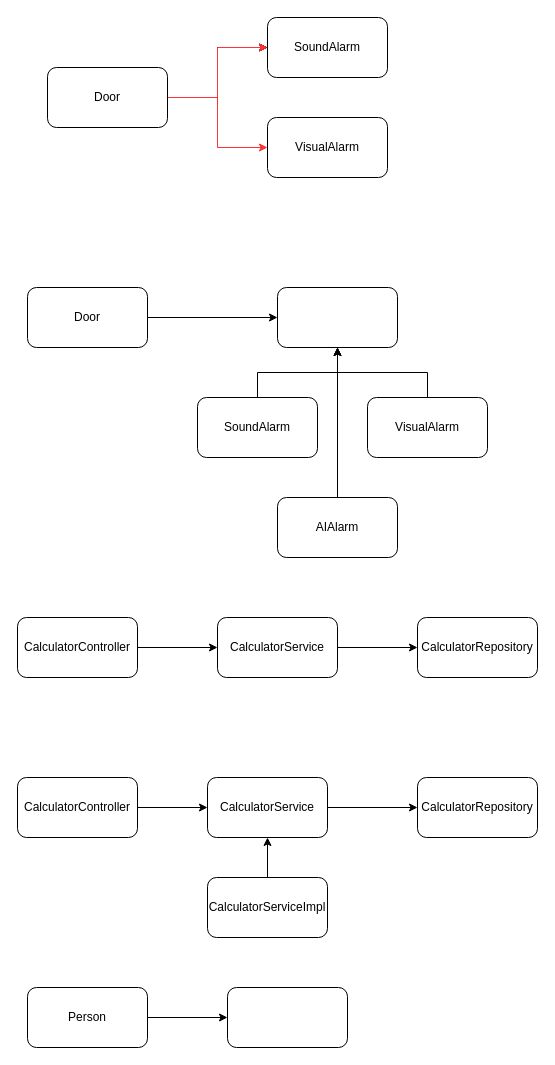
This 555x1065 diagram has some shape labels left out. The box of each missing label's shape, as (x1, y1, x2, y2) in pixels:
Alarm: (276, 286, 398, 348)
Brain: (226, 986, 348, 1048)
